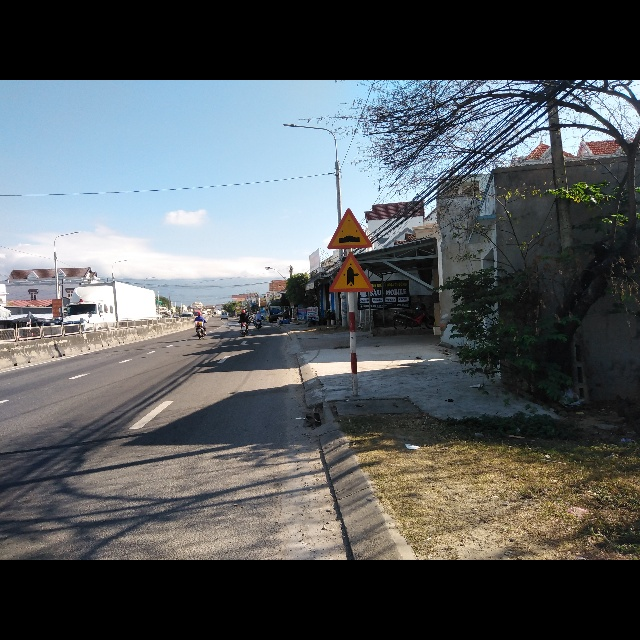Giao nhau với đường không ưu tiên: (330, 253, 377, 293)
Đường không bằng phẳng: (328, 207, 377, 250)
